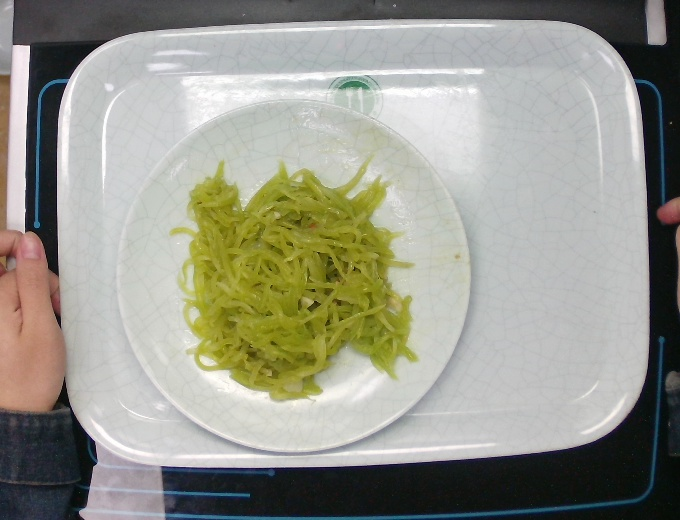JYsf-Da_Yuan_Pan: (113, 97, 473, 458)
